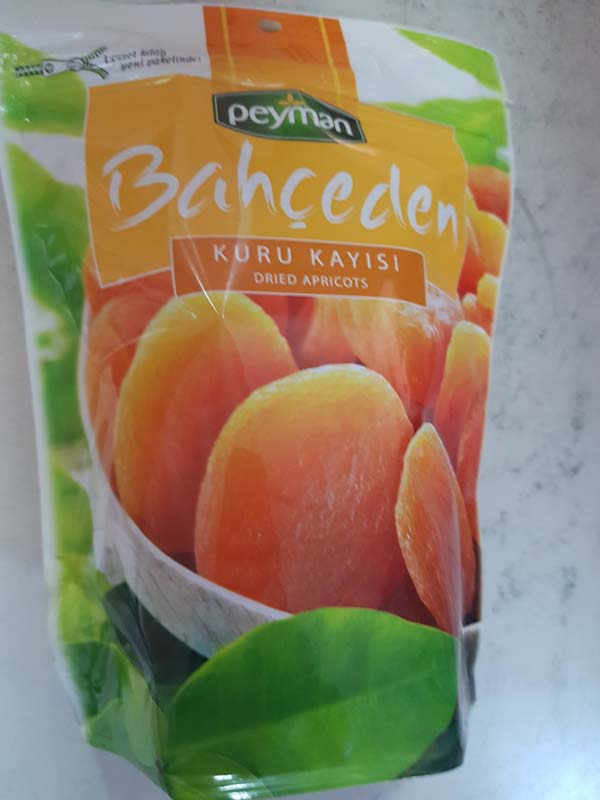bahcedenkurukayisi: (1, 2, 521, 800)
